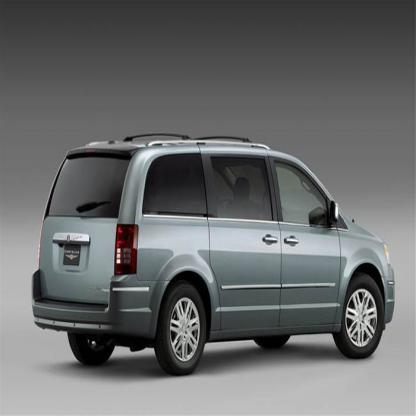Vehicle: (19, 108, 409, 386)
